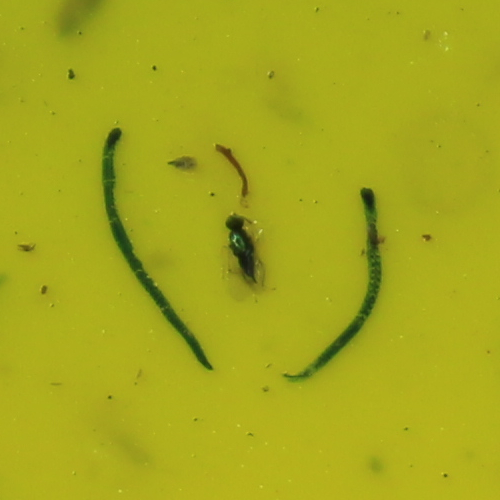Psyllaephagus: (220, 213, 259, 283)
